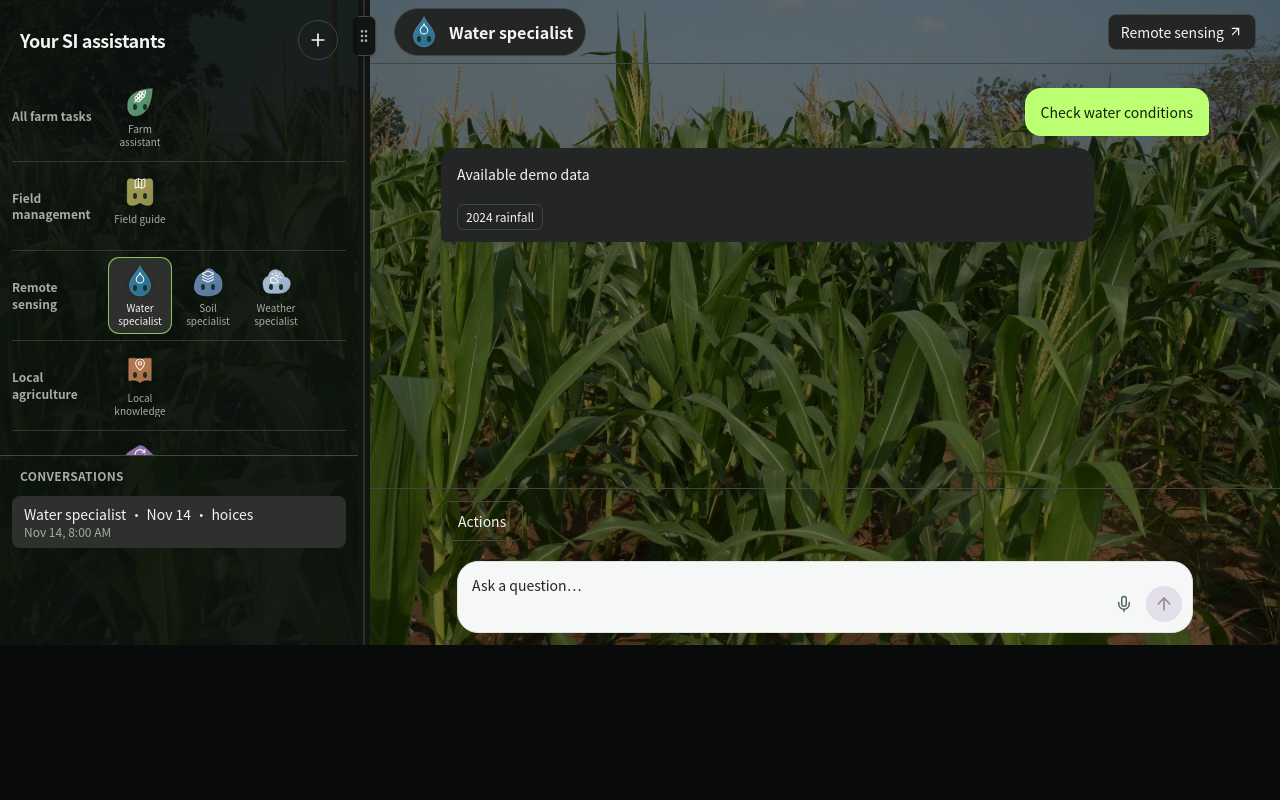
it: lets a farmer choose a supported follow-up from a retrieved answer
Click the button "2024 rainfall" at (500, 217), box x1=457 y1=204 x2=543 y2=230
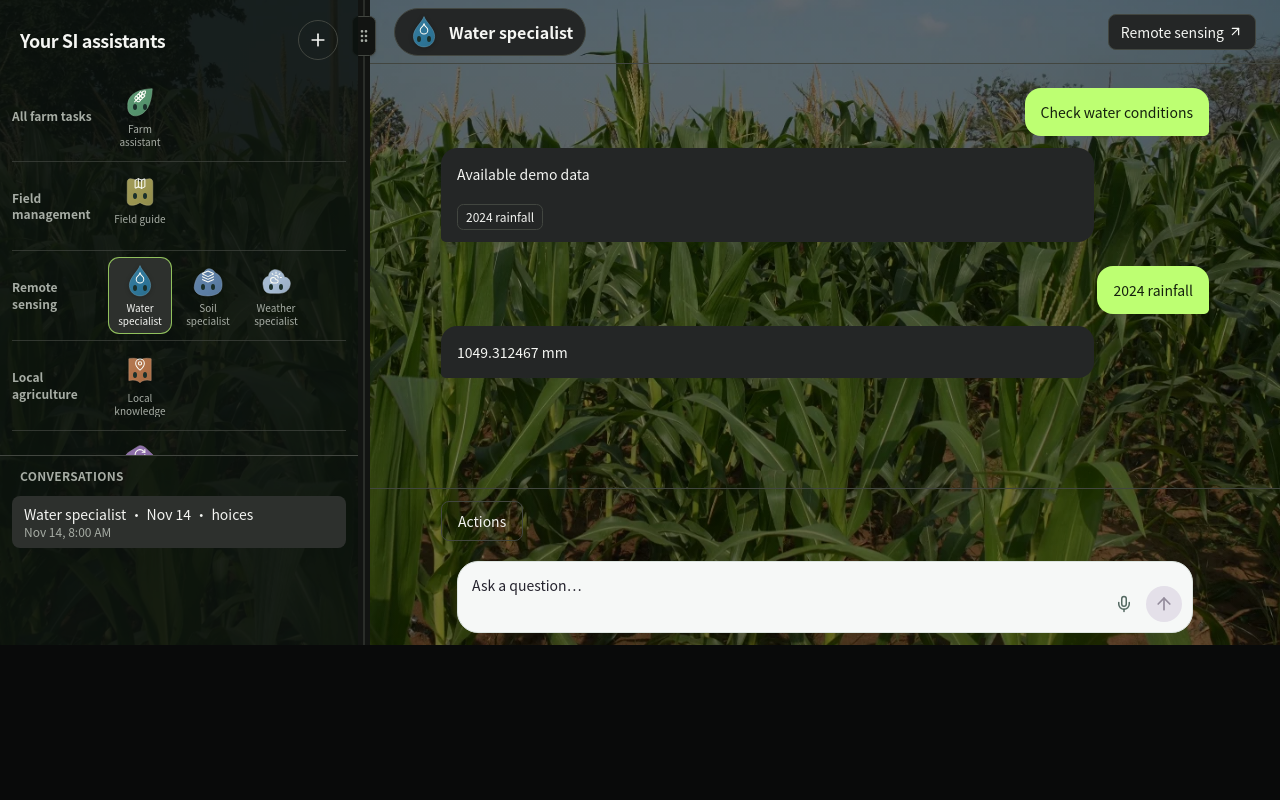
Check: the text "1049.312467 mm" is shown, box x1=457 y1=342 x2=568 y2=362
